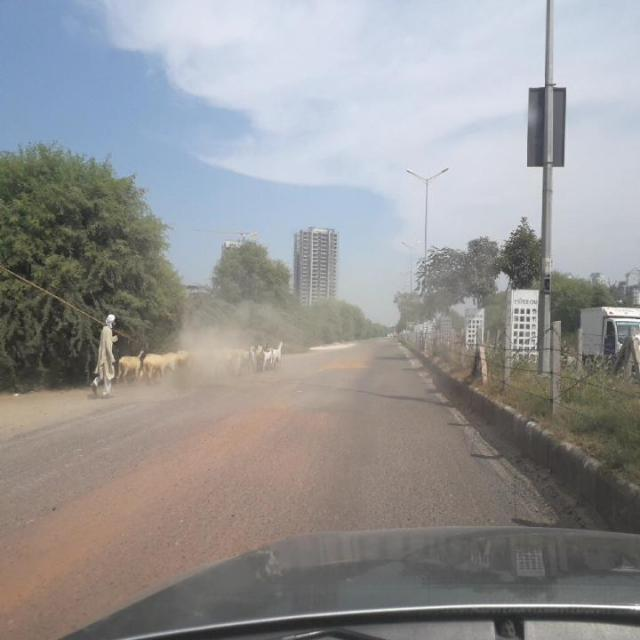Surface Erosion: (30, 301, 508, 633)
